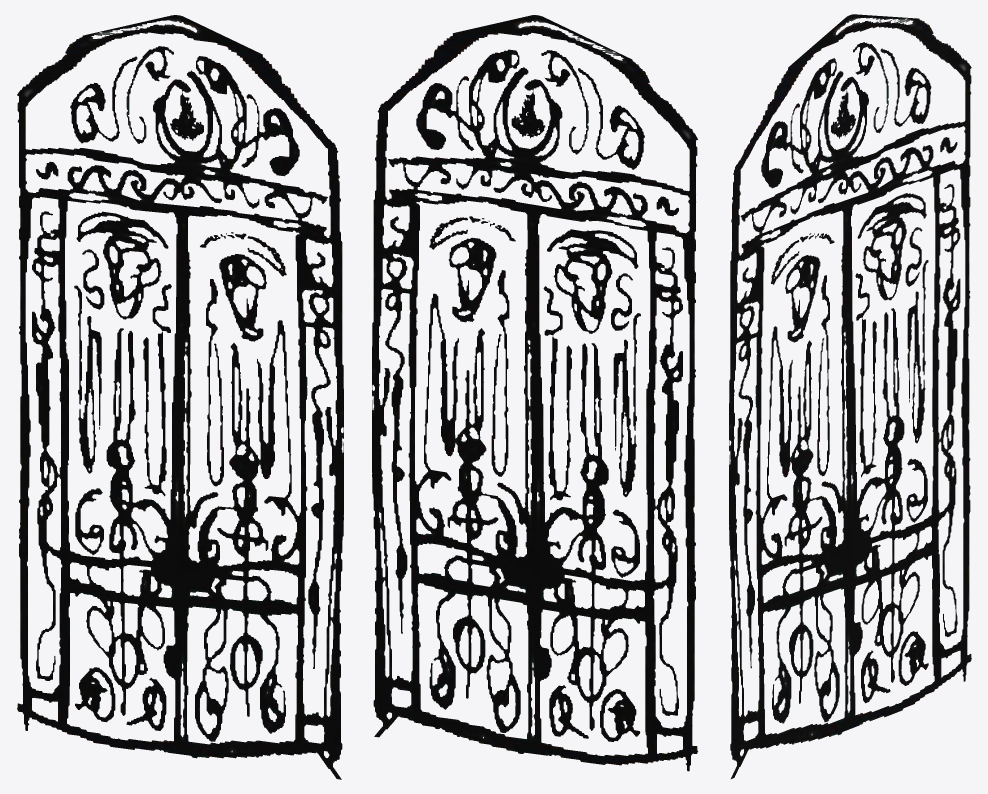
Rendered from PortaoEntrada.glb.
3 renders of one model, left to right at view 1: azimuth 30°, elevation 25°; view 2: azimuth 210°, elevation 25°; view 3: azimuth 270°, elevation 25°, orthographic. The views are drawn at different scales.
Parts seen in each view (by area): view 1: PortaoEntrada; view 2: PortaoEntrada; view 3: PortaoEntrada.
Part boxes in pixels (x1=…): PortaoEntrada: x1=17, y1=15, x2=343, y2=779; PortaoEntrada: x1=372, y1=15, x2=697, y2=771; PortaoEntrada: x1=729, y1=14, x2=971, y2=778.
Size of the model in its own units: 1.18 by 4.15 by 1.28.
1 material, 1 textured.
